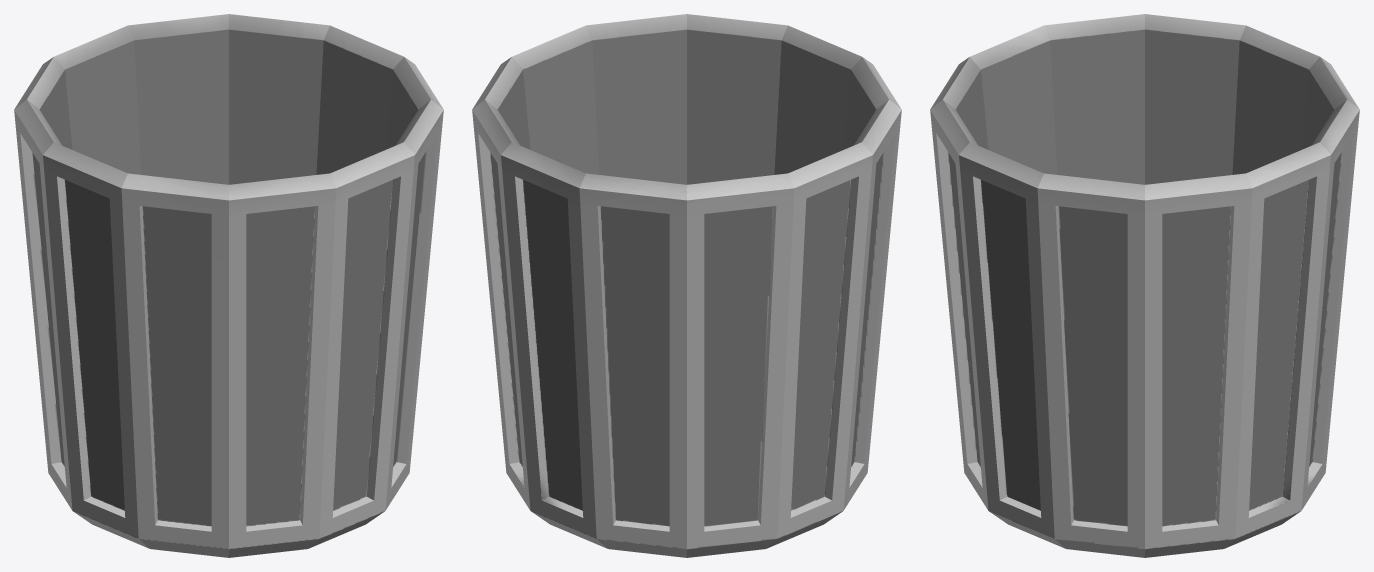
The model's file is TashBin.fbx.
The picture shows the model from 3 angles, left to right: view 1: azimuth 30°, elevation 25°; view 2: azimuth 150°, elevation 25°; view 3: azimuth 270°, elevation 25°; orthographic projection.
Visible parts, largest first — view 1: Circle; view 2: Circle; view 3: Circle.
Part boxes in pixels (x1,y1,x2,y2): Circle: [14, 14, 443, 557]; Circle: [472, 14, 901, 557]; Circle: [930, 14, 1359, 557].
Bounding box in the file's own units: 40.83 × 41.07 × 40.83.
Materials: 1 (1 with a texture image).
